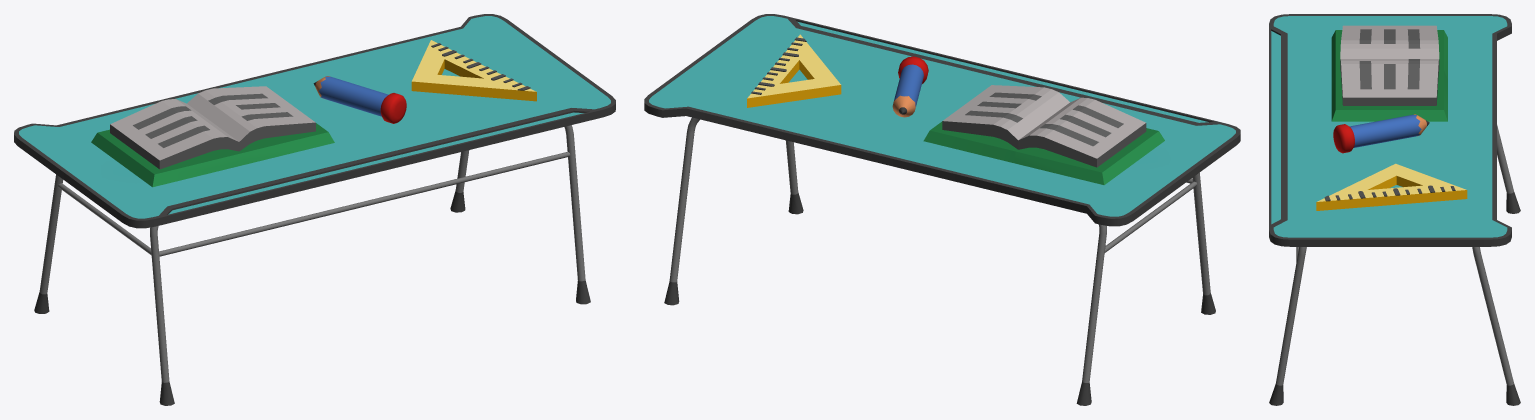
The model's file is Techer Table LEVEL-2-3.fbx.
3 renders of one model, left to right at view 1: azimuth 30°, elevation 25°; view 2: azimuth 150°, elevation 25°; view 3: azimuth 270°, elevation 25°, orthographic. The views are drawn at different scales.
Parts seen in each view (by area): view 1: Techer Table LEVEL-2-3; view 2: Techer Table LEVEL-2-3; view 3: Techer Table LEVEL-2-3.
Boxes of the visible parts, x1=… form: Techer Table LEVEL-2-3: x1=14, y1=14, x2=615, y2=405; Techer Table LEVEL-2-3: x1=644, y1=14, x2=1240, y2=405; Techer Table LEVEL-2-3: x1=1269, y1=14, x2=1520, y2=405.
Bounding box in the file's own units: 13.99 × 6 × 6.6.
